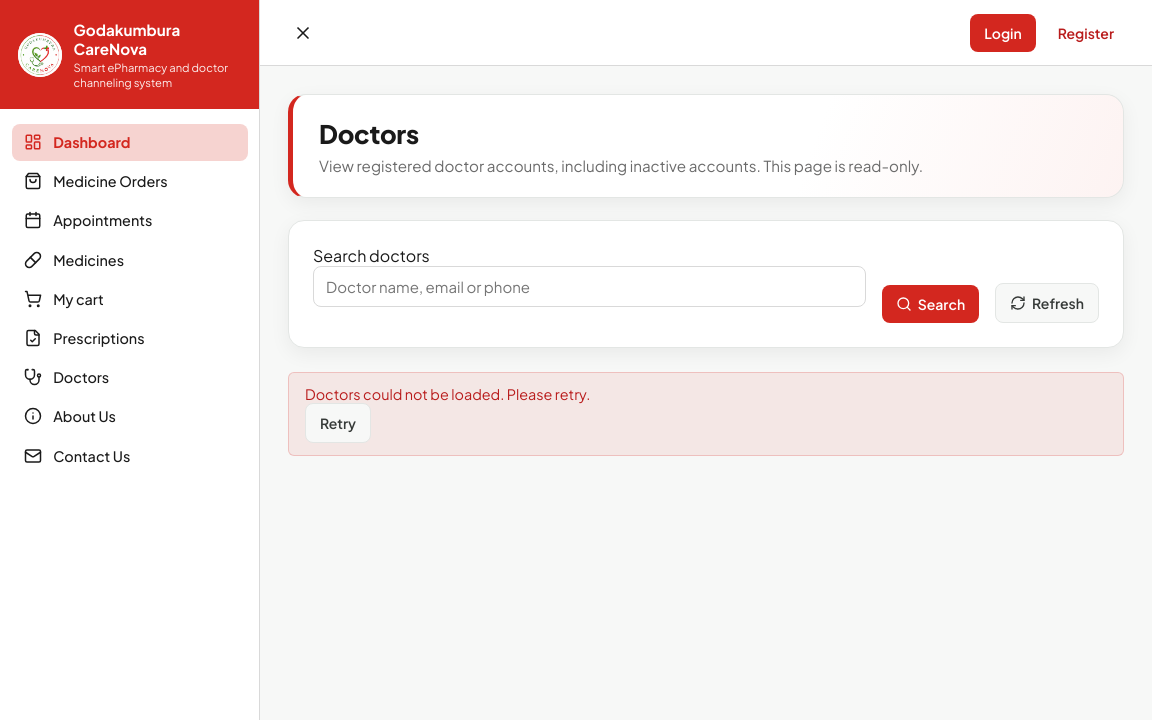
Test: shows failure rather than false empty state and allows retry
The width and height of the screenshot is (1152, 720).
expect the message shows "could not be loaded": met, box [305,385,590,403]
expect the text "No doctors found" is not shown: met
Click the button "Retry".
click(338, 423)  # box [305,403,371,443]
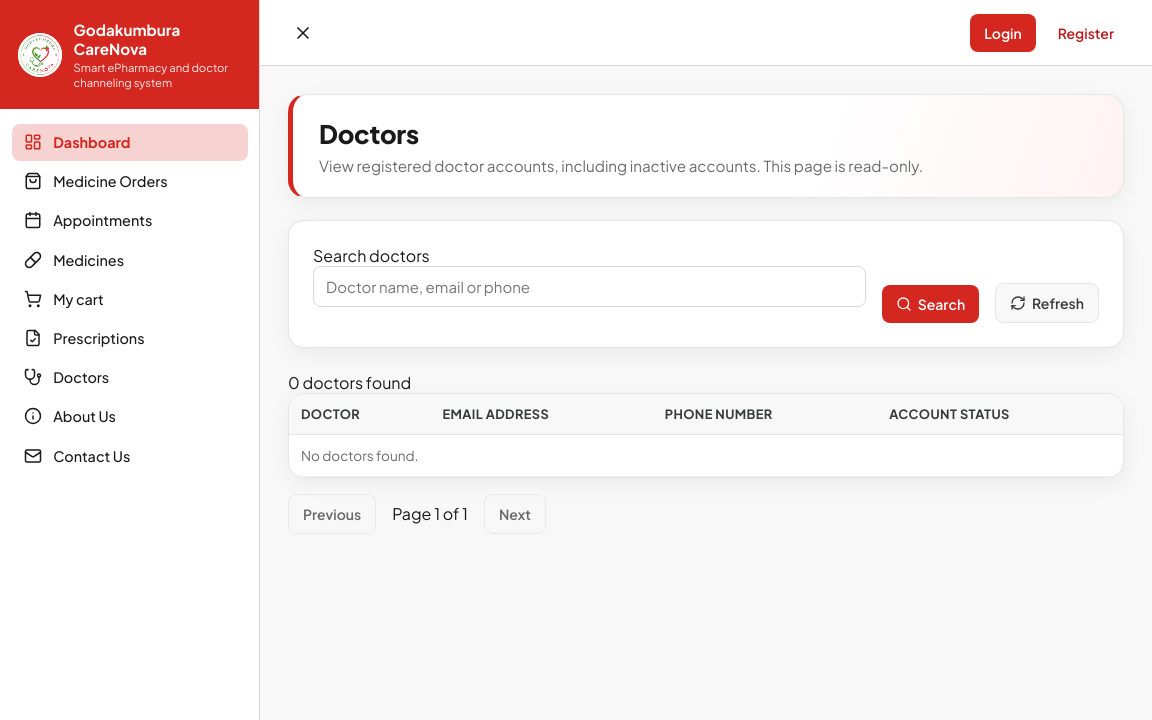
expect the text "No doctors found." is shown: met, box [289,434,1123,476]
